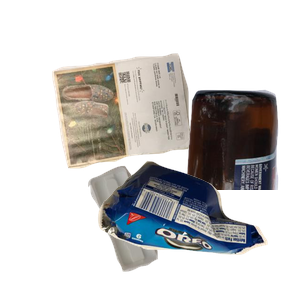glass: (87, 87, 300, 267)
paper: (49, 51, 235, 212)
plastic: (85, 163, 235, 300)
trash: (95, 158, 300, 300)
